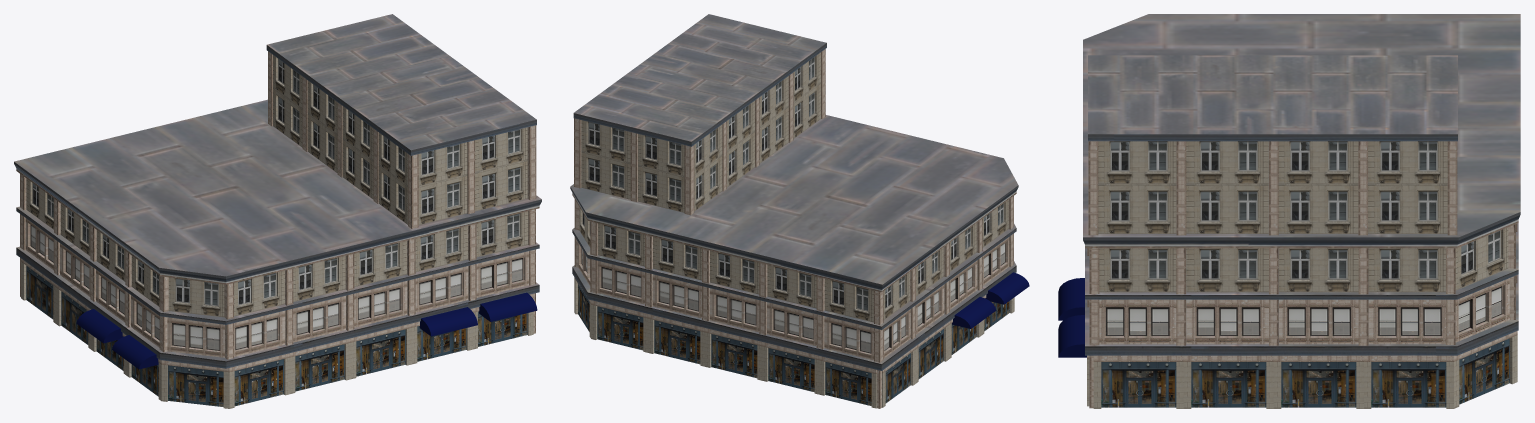
The model's file is building3var2.fbx.
The picture shows the model from 3 angles, left to right: view 1: azimuth 30°, elevation 25°; view 2: azimuth 150°, elevation 25°; view 3: azimuth 270°, elevation 25°; orthographic projection. The views are drawn at different scales.
Parts seen in each view (by area): view 1: Plane.065; view 2: Plane.065; view 3: Plane.065.
Boxes of the visible parts, box(x1,y1,x2,y2) form: Plane.065: box(14, 14, 541, 408); Plane.065: box(570, 14, 1029, 408); Plane.065: box(1058, 14, 1520, 408).
Size of the model in its own units: 30.34 by 16.61 by 25.38.
